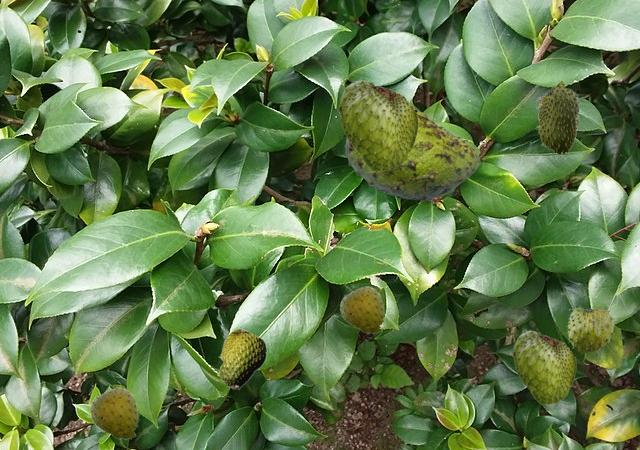guyabano: (344, 106, 479, 200), (339, 78, 417, 170), (513, 329, 575, 403), (536, 80, 580, 154), (218, 328, 266, 389), (89, 387, 138, 439), (566, 305, 615, 352), (339, 286, 384, 333)
